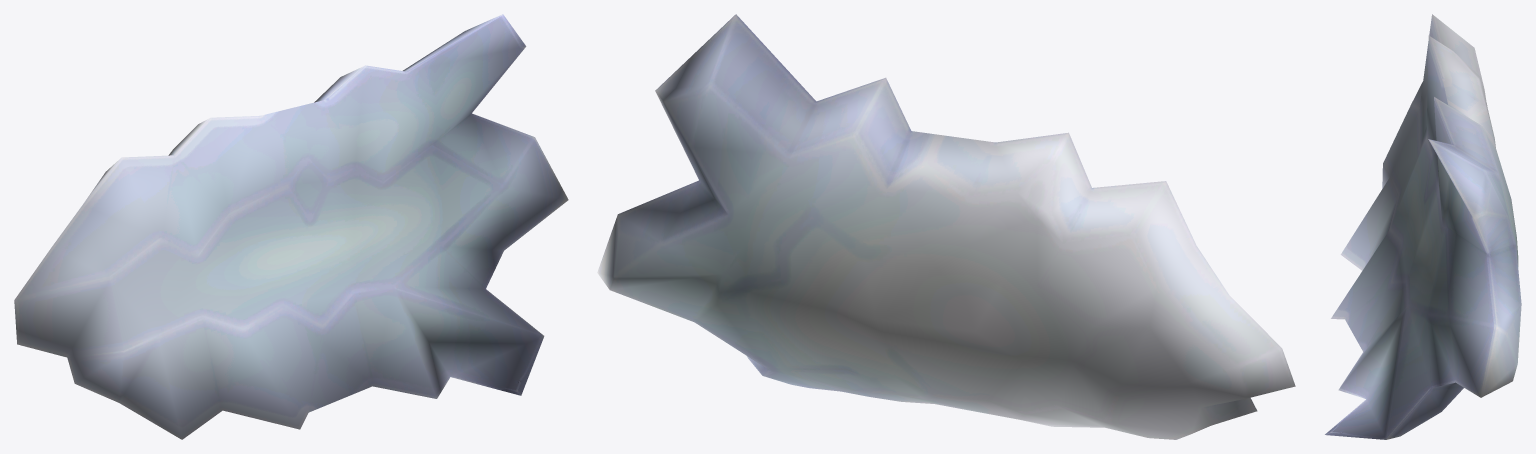
Rendered from item_weazemmgm2501-et06.glb.
3 renders of one model, left to right at view 1: azimuth 30°, elevation 25°; view 2: azimuth 150°, elevation 25°; view 3: azimuth 270°, elevation 25°, orthographic. The views are drawn at different scales.
Parts seen in each view (by area): view 1: FlyffMesh; view 2: FlyffMesh; view 3: FlyffMesh.
Part boxes in pixels (bbox=[...]): FlyffMesh: bbox=[14, 14, 568, 439]; FlyffMesh: bbox=[597, 14, 1295, 439]; FlyffMesh: bbox=[1325, 14, 1521, 439].
Size of the model in its own units: 0.4573 by 0.2496 by 0.1425.
Materials: 1 (1 with a texture image).
